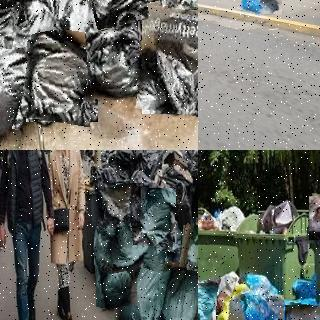Garbage: (23, 21, 102, 125), (0, 1, 48, 150), (138, 7, 198, 116), (115, 233, 176, 320), (86, 23, 146, 98), (101, 216, 157, 272), (154, 261, 198, 320), (134, 188, 176, 247), (95, 249, 136, 308), (16, 0, 91, 31), (81, 0, 159, 28), (102, 181, 143, 226), (222, 291, 264, 320), (245, 294, 285, 320), (180, 224, 198, 269), (198, 282, 217, 320), (307, 194, 320, 241), (237, 0, 265, 14), (258, 0, 282, 14)
